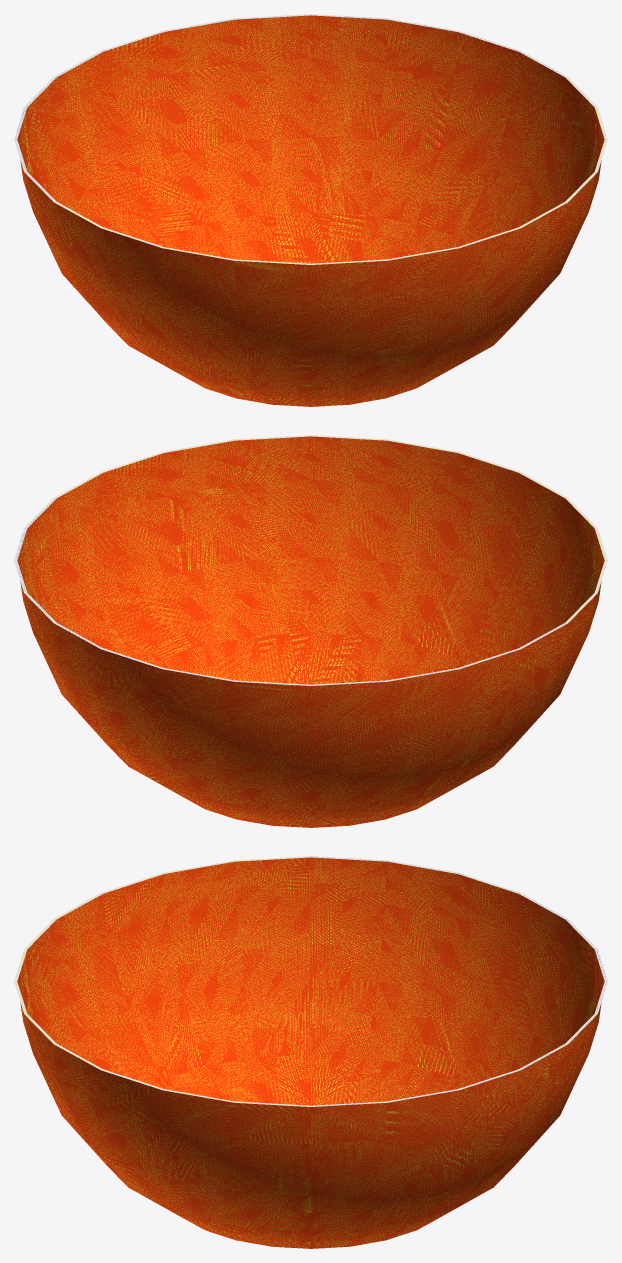
File: bowl.dae
The picture shows the model from 3 angles, top to bottom: view 1: azimuth 30°, elevation 25°; view 2: azimuth 150°, elevation 25°; view 3: azimuth 270°, elevation 25°; orthographic projection.
Parts seen in each view (by area): view 1: SketchUp (×3); view 2: SketchUp (×3); view 3: SketchUp (×3).
Boxes of the visible parts, x1,y1,x2,y2 form: SketchUp (×3): (14,14,607,406); SketchUp (×3): (14,435,607,827); SketchUp (×3): (14,856,607,1248).
Size of the model in its own units: 0.7874 by 0.7874 by 0.3515.
